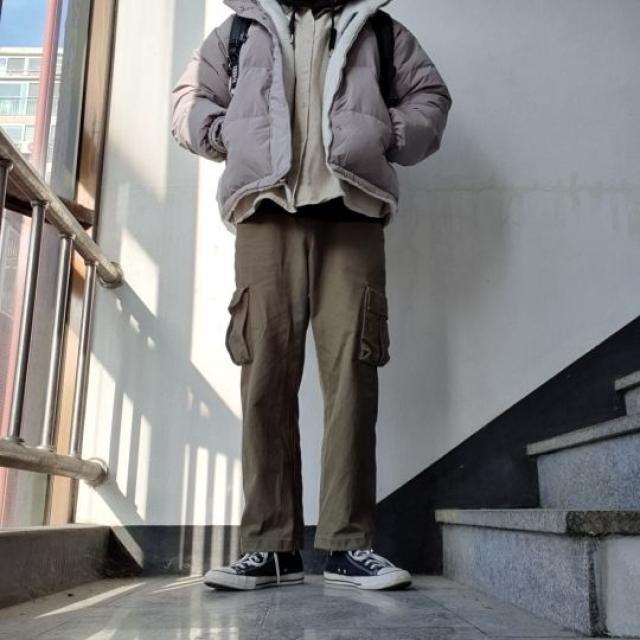cottonpants: (225, 189, 391, 551)
padding: (172, 0, 452, 219)
